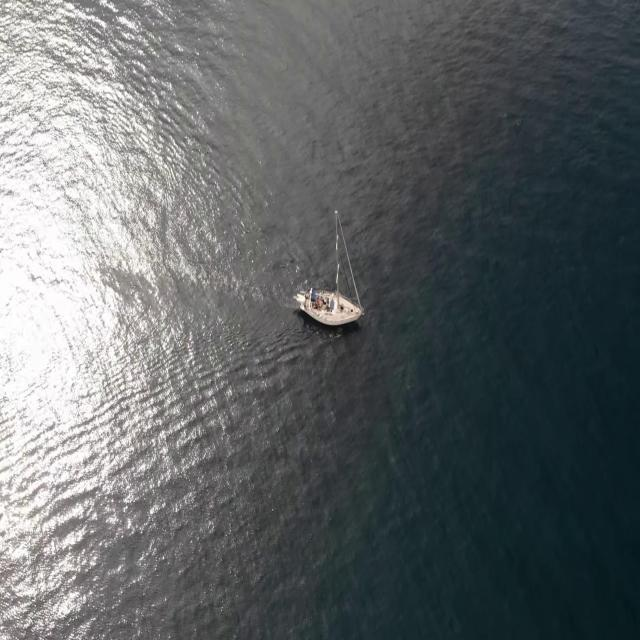sailboat: (293, 208, 365, 332)
